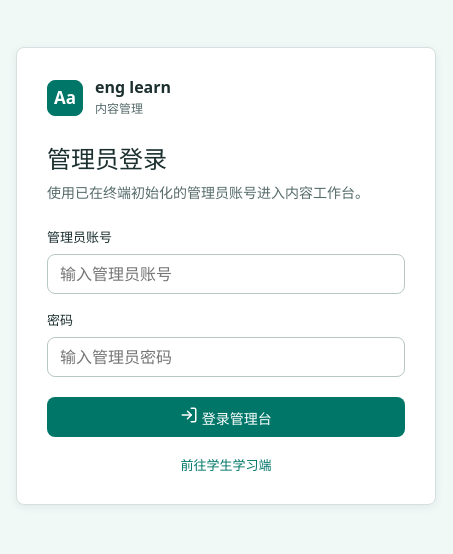
Test: AdminLoginPage › shows a recoverable login state for dependency_failure
Type "admin@example.com" into the field named "username". click: (226, 274)
box: [47, 254, 405, 294]
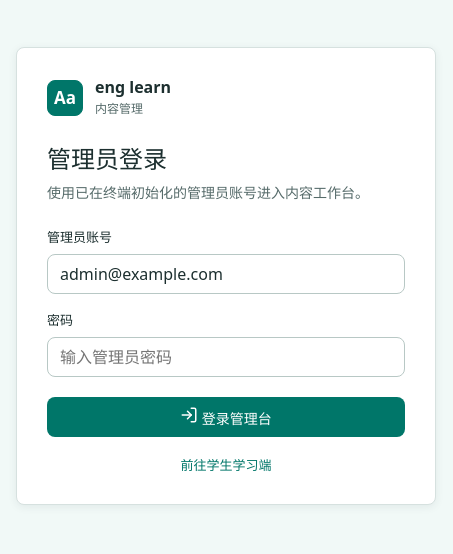
Type "not-a-real-password" into the password field named "password". click: (226, 357)
box: [47, 337, 405, 377]
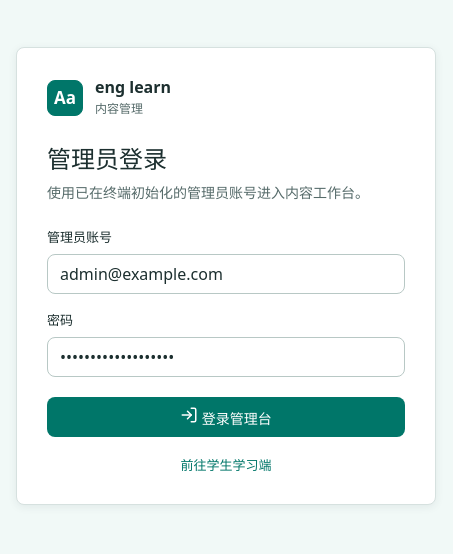
Submit the form, box [47, 227, 405, 437]
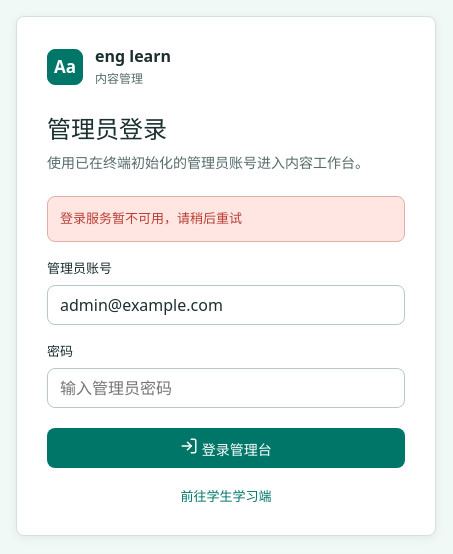
Check: the message "登录服务暂不可用，请稍后重试" is shown, box [47, 196, 405, 242]
